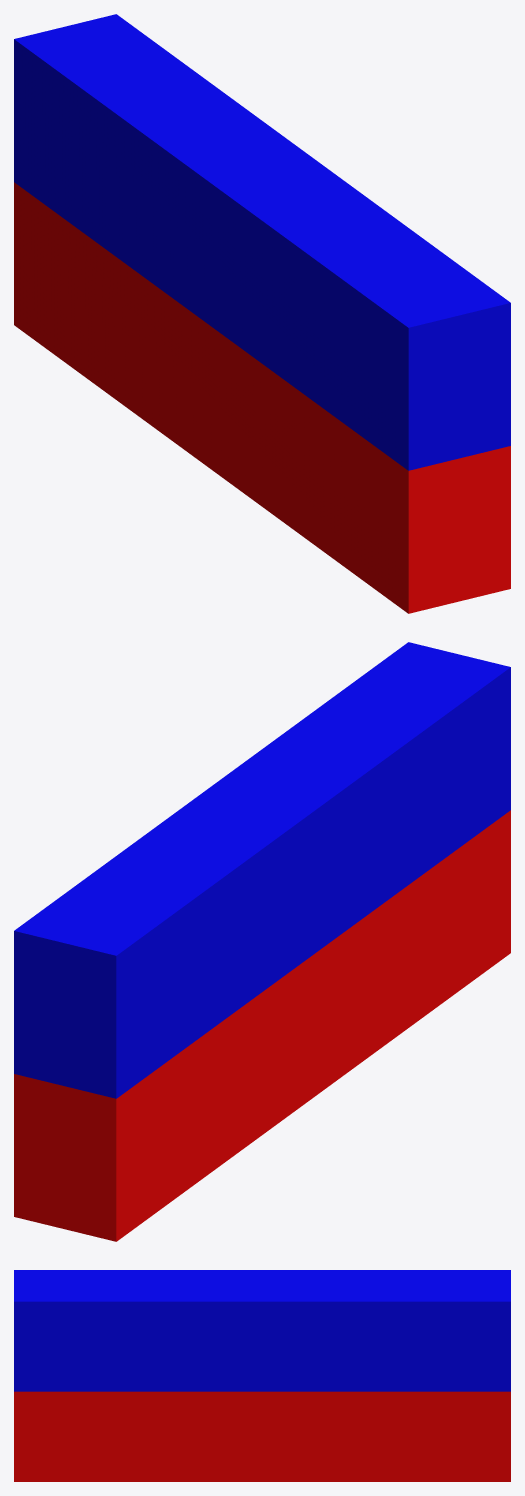
File: DCblStator1.glb
The picture shows the model from 3 angles, top to bottom: view 1: azimuth 30°, elevation 25°; view 2: azimuth 150°, elevation 25°; view 3: azimuth 270°, elevation 25°; orthographic projection. The views are drawn at different scales.
Parts seen in each view (by area): view 1: 立方体; view 2: 立方体; view 3: 立方体.
Part boxes in pixels (<box>): 立方体: <box>14,14,510,613</box>; 立方体: <box>14,642,510,1241</box>; 立方体: <box>14,1270,510,1481</box>.
Size of the model in its own units: 0.6 by 1.6 by 4.
